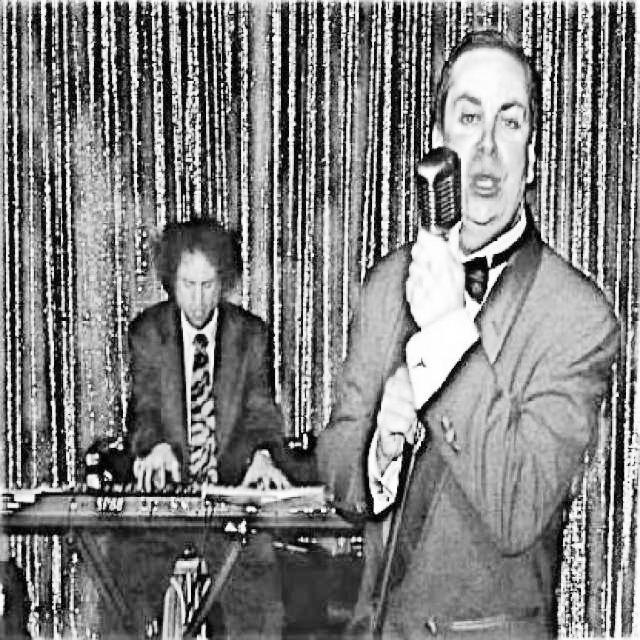Person: (315, 18, 623, 640), (118, 211, 297, 490)
